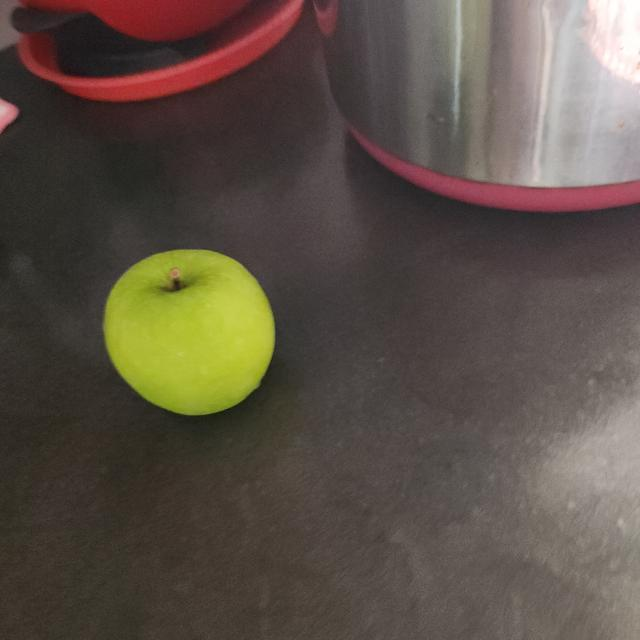apple: (100, 244, 288, 428)
